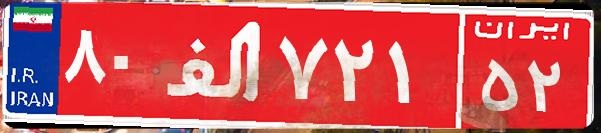0: (110, 28, 158, 105)
1: (385, 28, 445, 110)
2: (330, 28, 385, 110), (525, 38, 570, 115)
5: (475, 38, 525, 113)
7: (273, 28, 330, 110)
8: (57, 26, 110, 107)
الف: (158, 15, 273, 115)
